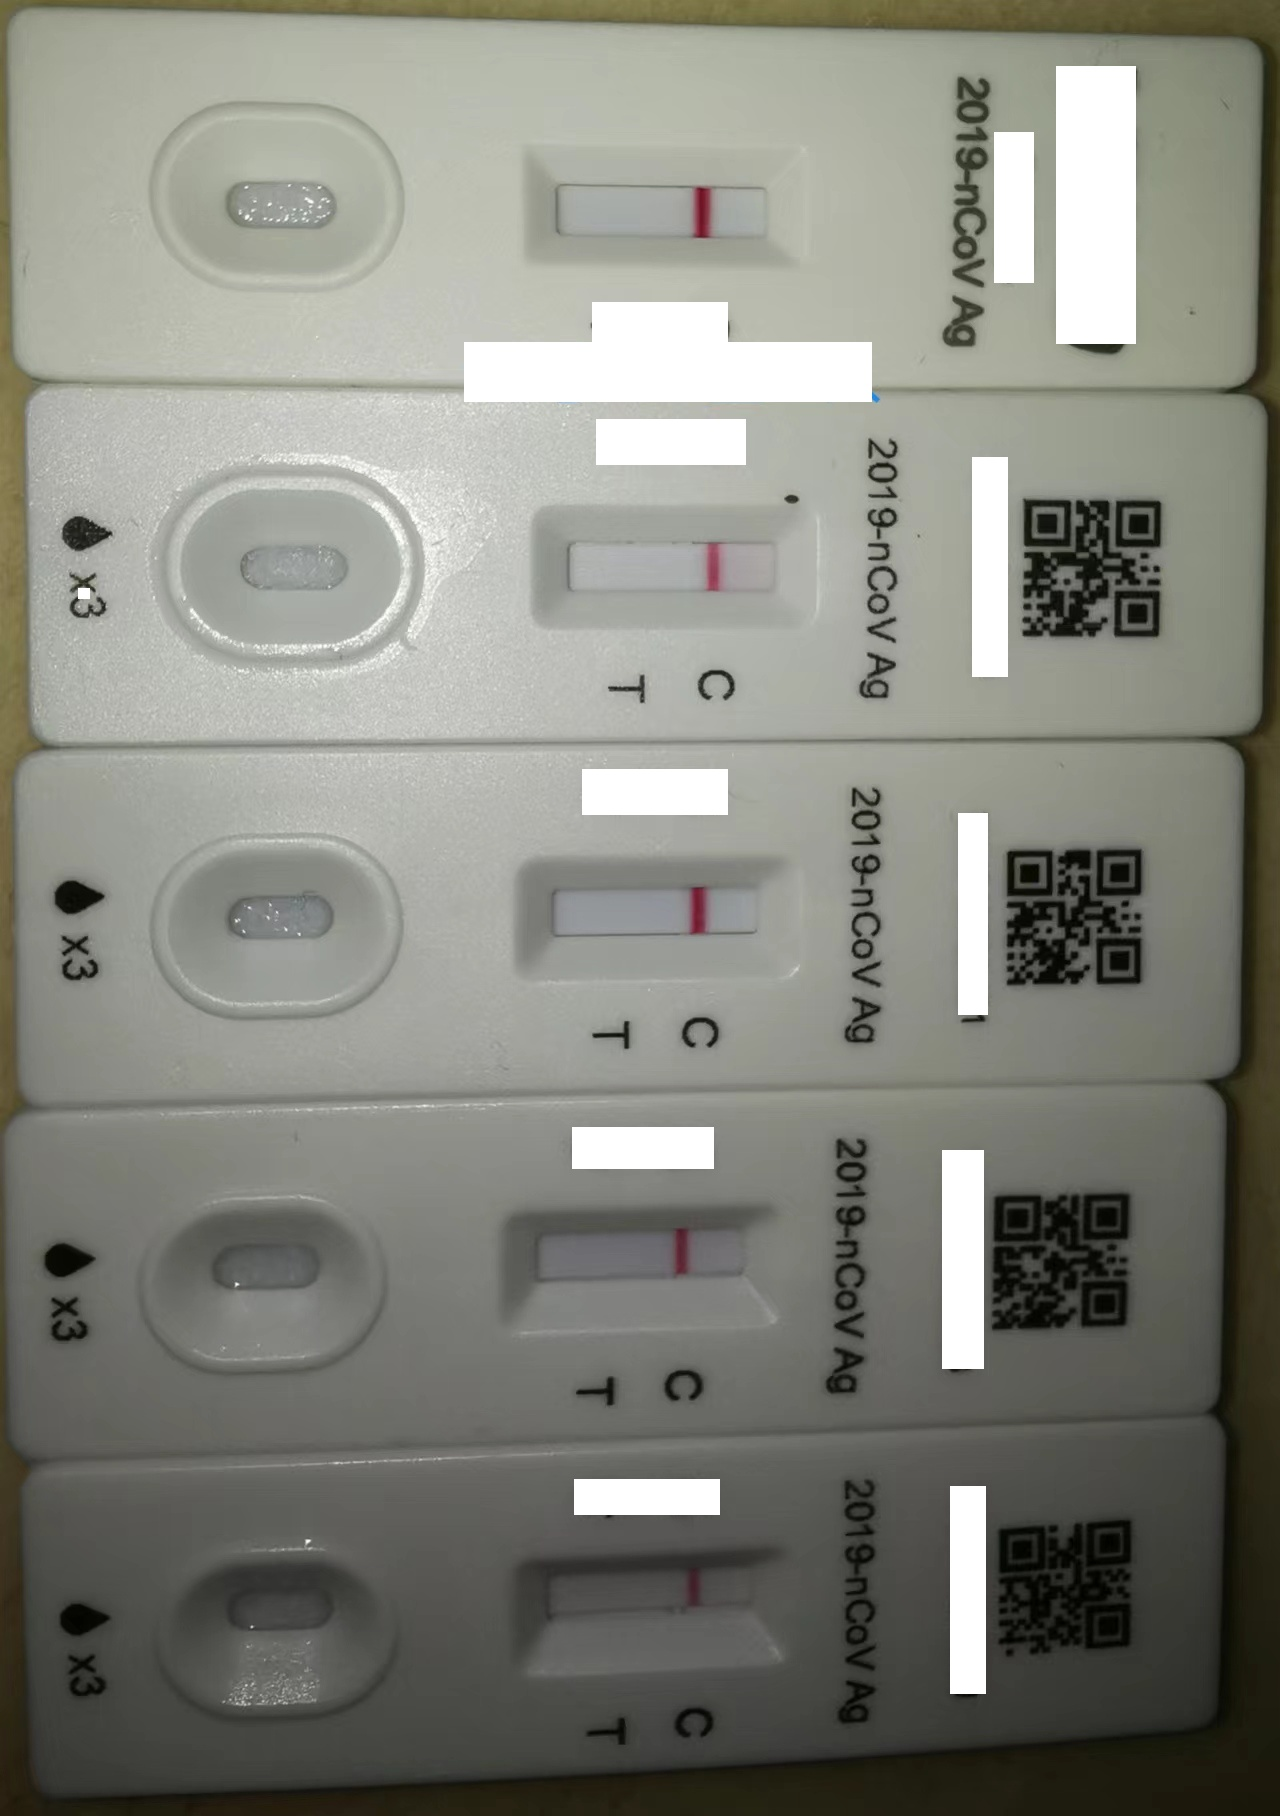negative: (519, 506, 830, 632), (497, 1207, 792, 1337), (508, 857, 802, 988), (508, 148, 826, 267), (519, 1550, 784, 1673)
